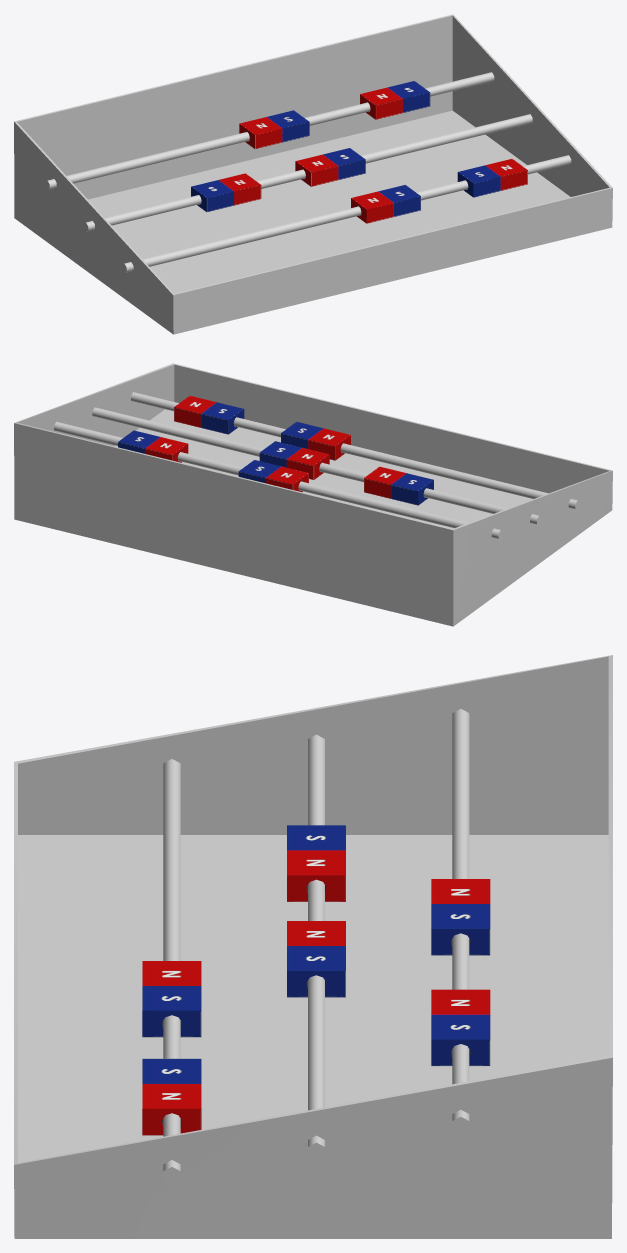
Rendered from Magnet.FBX.
The picture shows the model from 3 angles, top to bottom: view 1: azimuth 30°, elevation 25°; view 2: azimuth 150°, elevation 25°; view 3: azimuth 270°, elevation 25°; orthographic projection. The views are drawn at different scales.
Visible parts, largest first — view 1: Box001, Cylinder003, Cylinder004, Cylinder005, Box007, Box005, Box006, Box004, Box002, Box003; view 2: Box001, Cylinder003, Cylinder004, Cylinder005, Box002, Box005, Box003, Box004, Box006, Box007; view 3: Box001, Cylinder003, Cylinder005, Cylinder004, Box006, Box007, Box003, Box002, Box005, Box004.
Part boxes in pixels (box(x1,y1,x2,y2)): Box001: box(14, 14, 612, 334); Cylinder003: box(122, 155, 571, 272); Cylinder004: box(83, 114, 532, 231); Cylinder005: box(45, 72, 494, 189); Box007: box(239, 110, 309, 149); Box005: box(191, 173, 261, 212); Box006: box(360, 81, 430, 119); Box004: box(295, 148, 365, 186); Box002: box(457, 159, 527, 197); Box003: box(351, 184, 420, 223); Box001: box(14, 363, 612, 626); Cylinder003: box(131, 392, 579, 509); Cylinder004: box(92, 407, 541, 524); Cylinder005: box(54, 421, 502, 539); Box002: box(174, 395, 244, 434); Box005: box(364, 466, 433, 505); Box003: box(281, 421, 350, 460); Box004: box(259, 441, 329, 479); Box006: box(118, 430, 188, 462); Box007: box(238, 460, 308, 491); Box001: box(14, 655, 612, 1238); Cylinder003: box(163, 759, 180, 1184); Cylinder005: box(452, 709, 469, 1134); Cylinder004: box(308, 734, 324, 1160); Box006: box(431, 989, 490, 1066); Box007: box(431, 879, 490, 955); Box003: box(142, 961, 201, 1037); Box002: box(142, 1058, 201, 1135); Box005: box(287, 825, 345, 901); Box004: box(287, 921, 345, 997).
Bounding box in the file's own units: 50 × 10.17 × 30.43.
